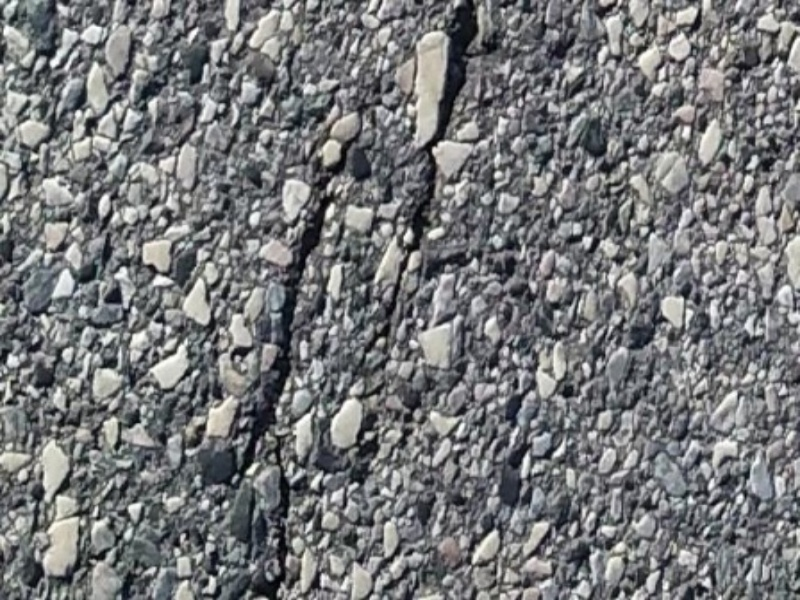crack: (200, 162, 379, 600), (409, 1, 520, 291)
